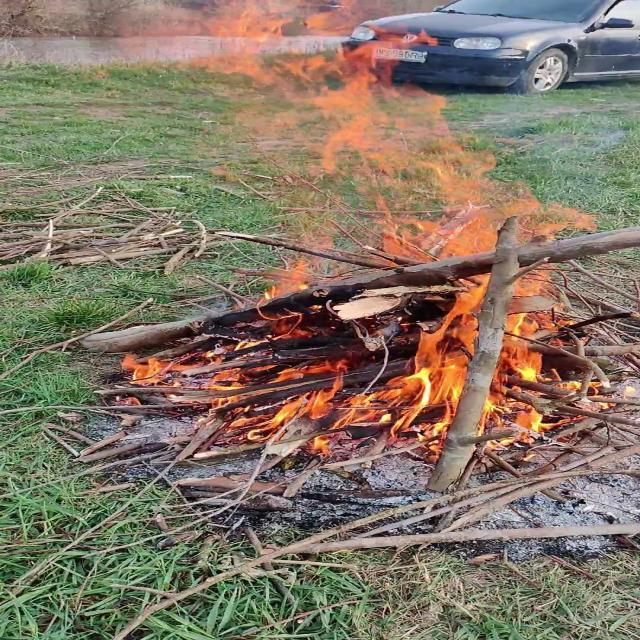Fire: (166, 11, 640, 262), (108, 264, 584, 454)
